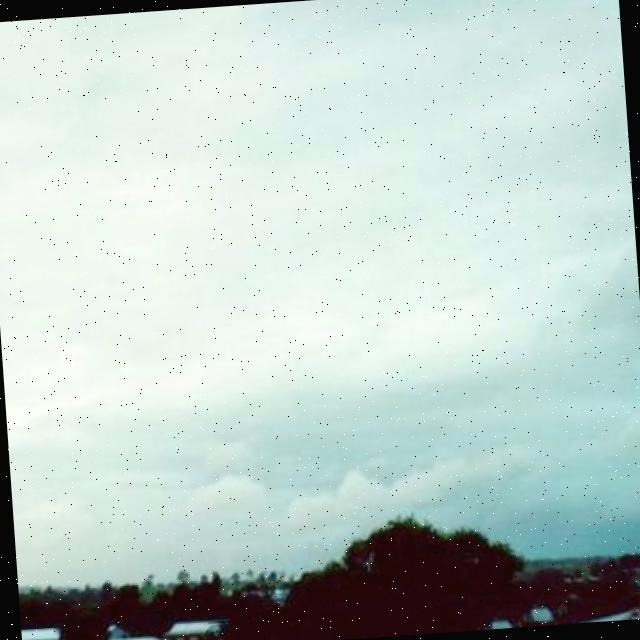Sc: (1, 50, 640, 523)
